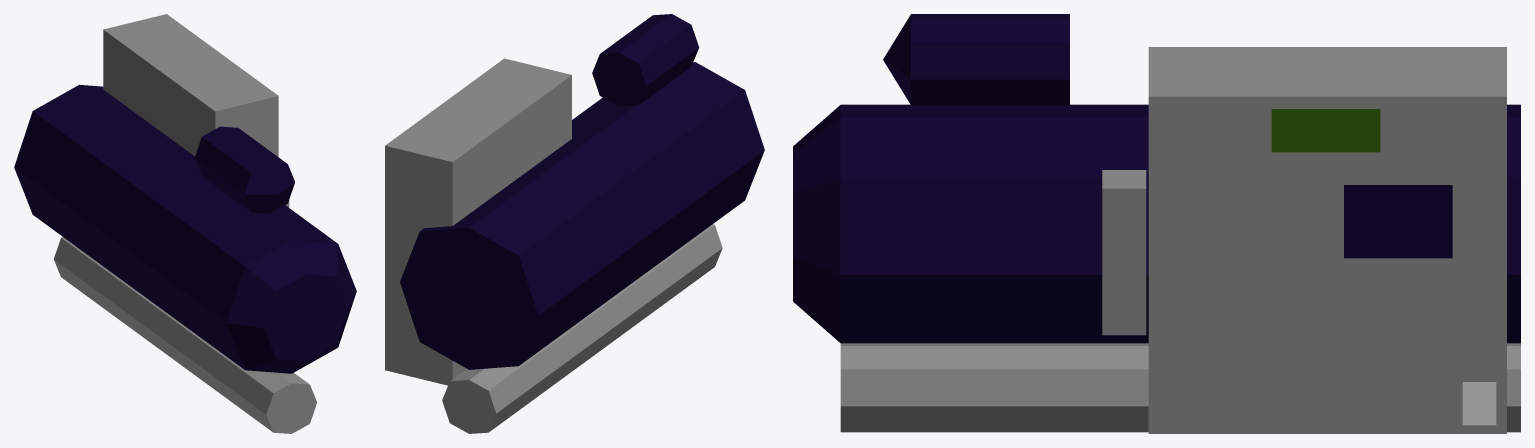
The model's file is iceWaterStation.fbx.
The picture shows the model from 3 angles, left to right: view 1: azimuth 30°, elevation 25°; view 2: azimuth 150°, elevation 25°; view 3: azimuth 270°, elevation 25°; orthographic projection. The views are drawn at different scales.
Visible parts, largest first — view 1: iceWaterStation; view 2: iceWaterStation; view 3: iceWaterStation.
Boxes of the visible parts, x1=… form: iceWaterStation: x1=14, y1=14, x2=356, y2=433; iceWaterStation: x1=385, y1=14, x2=764, y2=433; iceWaterStation: x1=793, y1=14, x2=1520, y2=433.
Size of the model in its own units: 10.19 by 16.69 by 26.99.
